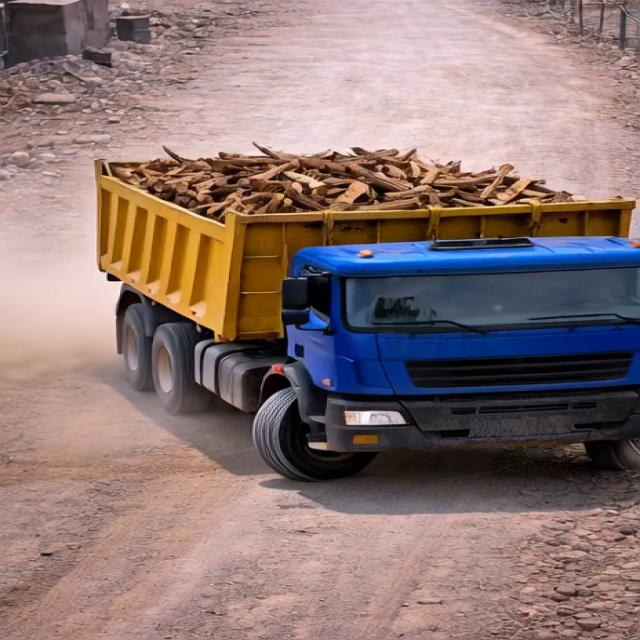Box: (83, 151, 635, 220)
Truck: (54, 127, 637, 482)
